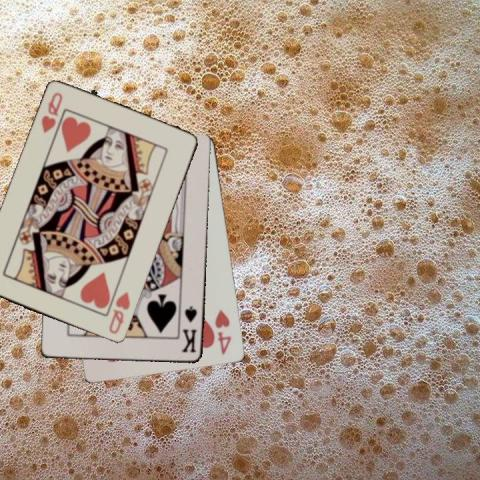4h: (214, 307, 234, 356)
Ks: (179, 303, 199, 355)
Qh: (38, 89, 65, 135), (106, 289, 132, 336)
